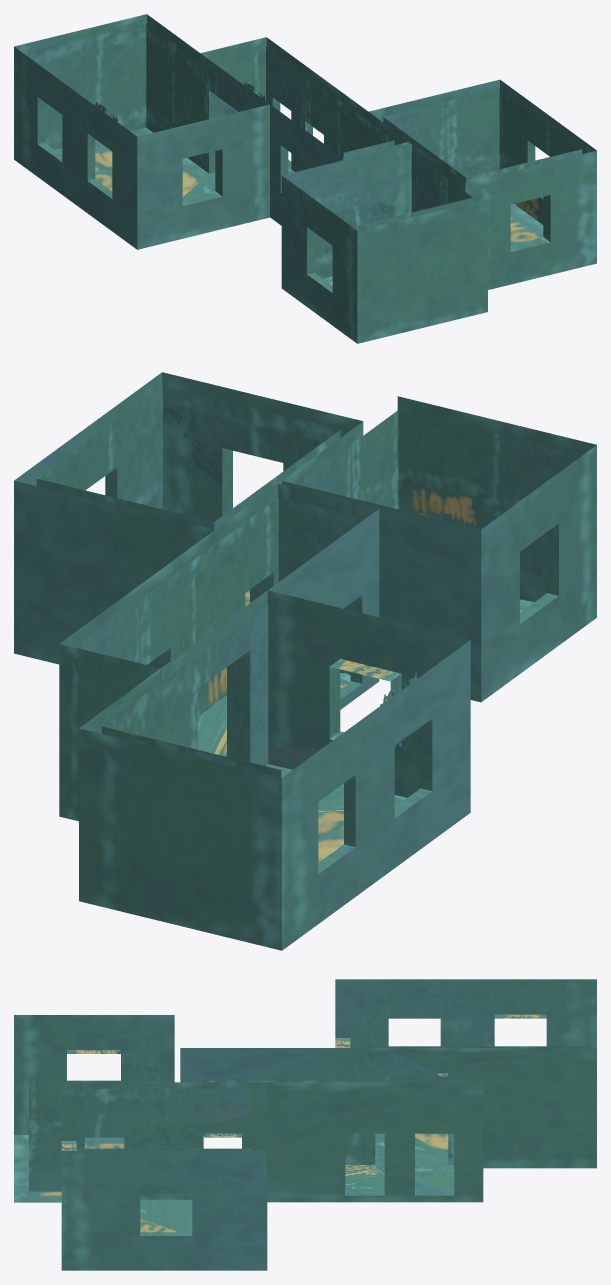
The picture shows the model from 3 angles, top to bottom: view 1: azimuth 30°, elevation 25°; view 2: azimuth 150°, elevation 25°; view 3: azimuth 270°, elevation 25°; orthographic projection. The views are drawn at different scales.
Visible parts, largest first — view 1: СТЕНЫ, КУХНЯ СТЕНЫ, ГОСТИНАЯ СТЕНЫ, КОРИДОР СТЕНЫ, СПАЛЬНЯ СТЕНЫ, КУХНЯ ПОЛ, ГОСТИНАЯ ПОЛ; view 2: СТЕНЫ, СПАЛЬНЯ СТЕНЫ, ГОСТИНАЯ СТЕНЫ, КОРИДОР СТЕНЫ, КУХНЯ СТЕНЫ, КУХНЯ ПОЛ, КОРИДОР ПОЛ; view 3: СТЕНЫ, ГОСТИНАЯ СТЕНЫ, КУХНЯ СТЕНЫ, СПАЛЬНЯ СТЕНЫ, КОРИДОР СТЕНЫ, КОРИДОР ПОЛ, ГОСТИНАЯ ПОЛ, КУХНЯ ПОЛ, СПАЛЬНЯ ПОЛ.
Part boxes in pixels (x1,y1,x2,y2): СТЕНЫ: (14, 14, 596, 343); КУХНЯ СТЕНЫ: (28, 23, 255, 173); ГОСТИНАЯ СТЕНЫ: (383, 88, 582, 224); КОРИДОР СТЕНЫ: (224, 46, 394, 171); СПАЛЬНЯ СТЕНЫ: (299, 153, 472, 278); КУХНЯ ПОЛ: (56, 128, 215, 199); ГОСТИНАЯ ПОЛ: (510, 204, 543, 244); СТЕНЫ: (14, 372, 596, 950); СПАЛЬНЯ СТЕНЫ: (304, 410, 574, 599); ГОСТИНАЯ СТЕНЫ: (36, 386, 340, 529); КОРИДОР СТЕНЫ: (82, 498, 356, 716); КУХНЯ СТЕНЫ: (101, 604, 424, 797); КУХНЯ ПОЛ: (265, 764, 406, 862); КОРИДОР ПОЛ: (197, 672, 361, 756); СТЕНЫ: (14, 979, 596, 1270); ГОСТИНАЯ СТЕНЫ: (76, 1088, 251, 1150); КУХНЯ СТЕНЫ: (350, 985, 581, 1080); СПАЛЬНЯ СТЕНЫ: (29, 1029, 159, 1191); КОРИДОР СТЕНЫ: (195, 1054, 468, 1164); КОРИДОР ПОЛ: (345, 1161, 454, 1195); ГОСТИНАЯ ПОЛ: (140, 1199, 192, 1232); КУХНЯ ПОЛ: (375, 1133, 448, 1161); СПАЛЬНЯ ПОЛ: (85, 1137, 124, 1148).
Bounding box in the file's own units: 723 × 236 × 1041.
